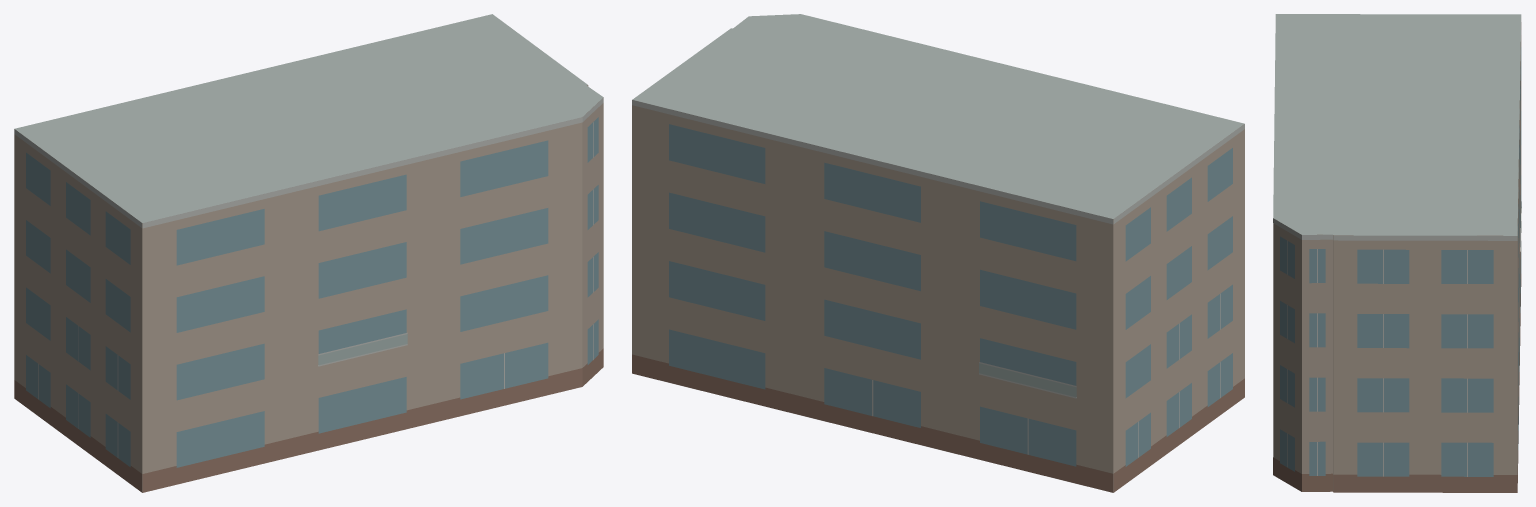
Rendered from survey-upis-32632280.glb.
3 views of the same model, side by side, from view 1: azimuth 30°, elevation 25°; view 2: azimuth 150°, elevation 25°; view 3: azimuth 270°, elevation 25° (orthographic). The views are drawn at different scales.
Visible parts, largest first — view 1: survey-upis-32632280.tmp; view 2: survey-upis-32632280.tmp; view 3: survey-upis-32632280.tmp.
Boxes of the visible parts, x1,y1,x2,y2 form: survey-upis-32632280.tmp: (14, 14, 603, 492); survey-upis-32632280.tmp: (632, 14, 1244, 492); survey-upis-32632280.tmp: (1273, 14, 1521, 492).
Bounding box in the file's own units: 22.96 × 12.4 × 10.88.
